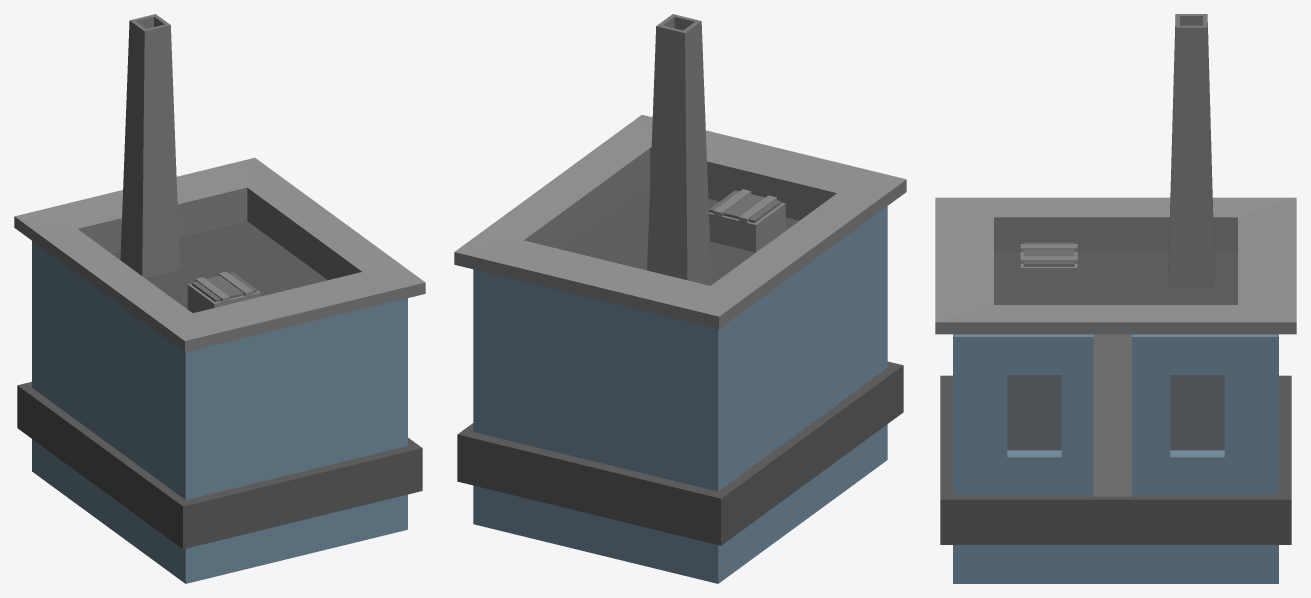
Rendered from Domik_3.fbx.
The picture shows the model from 3 angles, left to right: view 1: azimuth 30°, elevation 25°; view 2: azimuth 150°, elevation 25°; view 3: azimuth 270°, elevation 25°; orthographic projection. The views are drawn at different scales.
Visible parts, largest first — view 1: Здание; view 2: Здание; view 3: Здание.
Boxes of the visible parts, x1,y1,x2,y2 form: Здание: (14, 14, 425, 583); Здание: (454, 14, 906, 583); Здание: (935, 14, 1296, 583).
Bounding box in the file's own units: 2353 × 4300 × 2888.
